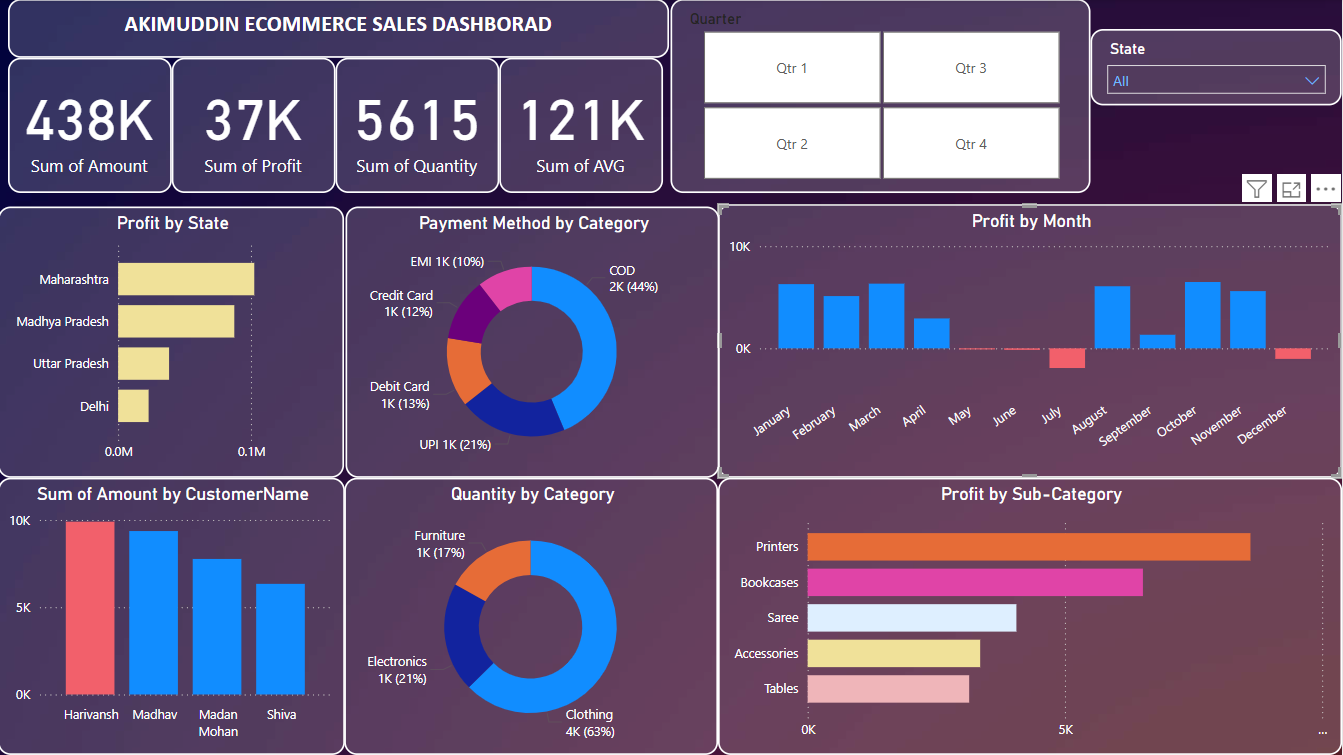

This screenshot's page, from the dashboard's own definition file:
{"tool":"powerbi","page":{"name":"Page 1","canvas":[1280,720],"ordinal":0},"visuals":[{"type":"textbox","box":[9.6,0,629.8,56.3],"z":0},{"type":"columnChart","title":"Profit by Month","fields":{"Category":["Orders.Order Date.Variation.Date Hierarchy.Month"],"Y":["Sum(Details.Profit)"]},"box":[685.7,195.2,594.1,260.7],"z":1000},{"type":"barChart","title":"Profit by Sub-Category","fields":{"Category":["Details.Sub-Category"],"Y":["Sum(Details.Profit)"]},"box":[685.7,456,594.1,264.3],"z":2000},{"type":"donutChart","title":"Quantity by Category","fields":{"Category":["Details.Category"],"Y":["Sum(Details.Quantity)"]},"box":[329.8,456,356,264.3],"z":3000},{"type":"donutChart","title":"Quantity by Category","fields":{"Y":["Sum(Details.Quantity)"],"Category":["Details.PaymentMode"]},"box":[331,197.6,356,258.3],"z":4000},{"type":"card","fields":{"Values":["Sum(Details.Amount)"]},"box":[9.5,56,156,128.6],"z":5000},{"type":"card","fields":{"Values":["Sum(Details.Profit)"]},"box":[165.5,56,156,128.6],"z":6000},{"type":"card","fields":{"Values":["Sum(Details.Quantity)"]},"box":[321.4,56,156,128.6],"z":7000},{"type":"card","fields":{"Values":["Sum(Details.AVG)"]},"box":[477.4,56,156,128.6],"z":8000},{"type":"barChart","title":"Profit by Sub-Category","fields":{"Y":["Sum(Details.Amount)"],"Category":["Orders.State"]},"box":[0,197.6,329.8,258.3],"z":9000},{"type":"columnChart","fields":{"Category":["Orders.CustomerName"],"Y":["Sum(Details.Amount)"]},"box":[0,456,330,264],"z":10000},{"type":"slicer","fields":{"Values":["Orders.Order Date.Variation.Date Hierarchy.Quarter"]},"box":[640.5,0,400,184.5],"z":10001},{"type":"slicer","fields":{"Values":["Orders.State"]},"box":[1040.5,28.6,239.3,72.6],"z":10002}]}

Visuals, with their boxes in screenshot pixels (x1, y1, x2, y2), scaled from the page's 1280x720 canvas onto the 1343x755 screenshot:
textbox: <bbox>10, 0, 671, 59</bbox>
"Profit by Month" columnChart: <bbox>719, 205, 1342, 478</bbox>
"Profit by Sub-Category" barChart: <bbox>719, 478, 1342, 754</bbox>
"Quantity by Category" donutChart: <bbox>346, 478, 720, 754</bbox>
"Quantity by Category" donutChart: <bbox>347, 207, 721, 478</bbox>
card - Sum(Details.Amount): <bbox>10, 59, 174, 194</bbox>
card - Sum(Details.Profit): <bbox>174, 59, 337, 194</bbox>
card - Sum(Details.Quantity): <bbox>337, 59, 501, 194</bbox>
card - Sum(Details.AVG): <bbox>501, 59, 665, 194</bbox>
"Profit by Sub-Category" barChart: <bbox>0, 207, 346, 478</bbox>
columnChart - Orders.CustomerName x Sum(Details.Amount): <bbox>0, 478, 346, 754</bbox>
slicer - Orders.Order Date.Variation.Date Hierarchy.Quarter: <bbox>672, 0, 1092, 193</bbox>
slicer - Orders.State: <bbox>1092, 30, 1342, 106</bbox>
